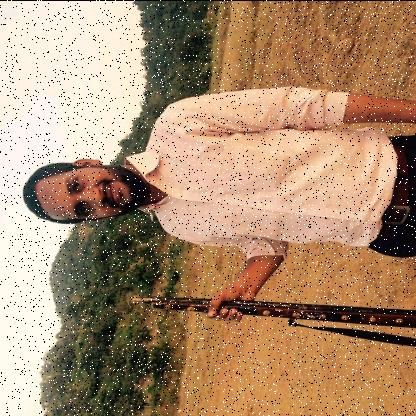rifle: (132, 293, 416, 329)
